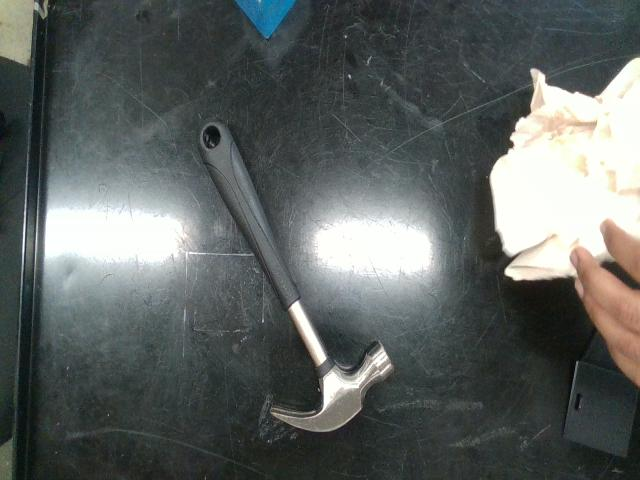Hammer: (199, 120, 394, 432)
Hand: (570, 217, 640, 387)
